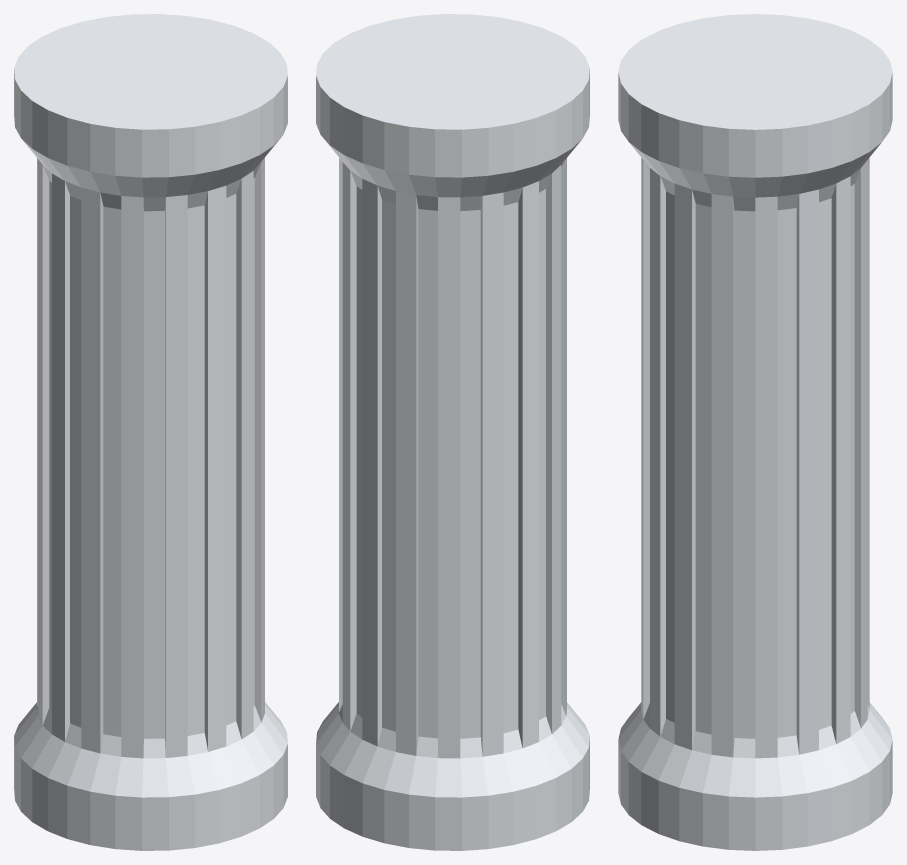
The model's file is fgr_fur_pillar.fbx.
3 renders of one model, left to right at view 1: azimuth 30°, elevation 25°; view 2: azimuth 150°, elevation 25°; view 3: azimuth 270°, elevation 25°, orthographic.
Parts seen in each view (by area): view 1: fgr_fur_pillar; view 2: fgr_fur_pillar; view 3: fgr_fur_pillar.
Boxes of the visible parts, x1,y1,x2,y2 form: fgr_fur_pillar: [14, 14, 287, 850]; fgr_fur_pillar: [316, 14, 589, 850]; fgr_fur_pillar: [618, 14, 892, 850].
Bounding box in the file's own units: 844 × 2447 × 844.
Materials: 1 (1 with a texture image).
